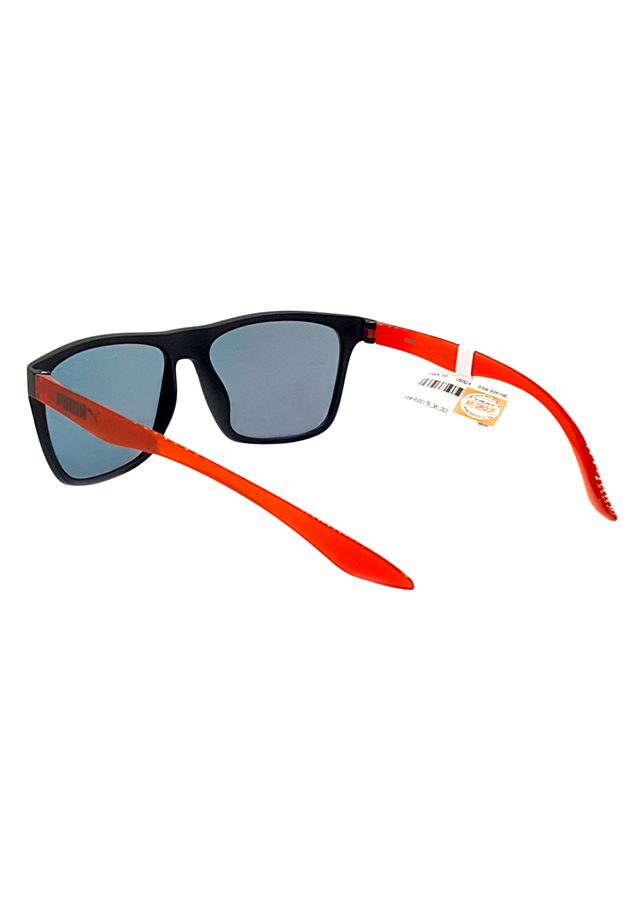Puma: (45, 383, 112, 434)
